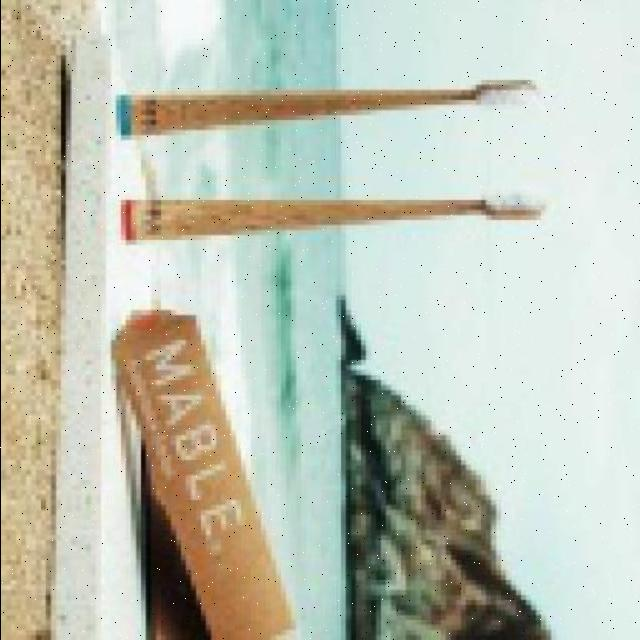toothbrush: (103, 67, 552, 159)
